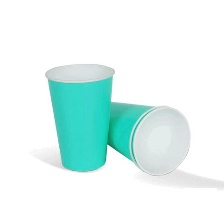paper_cup: (41, 59, 118, 175), (91, 97, 195, 178)
